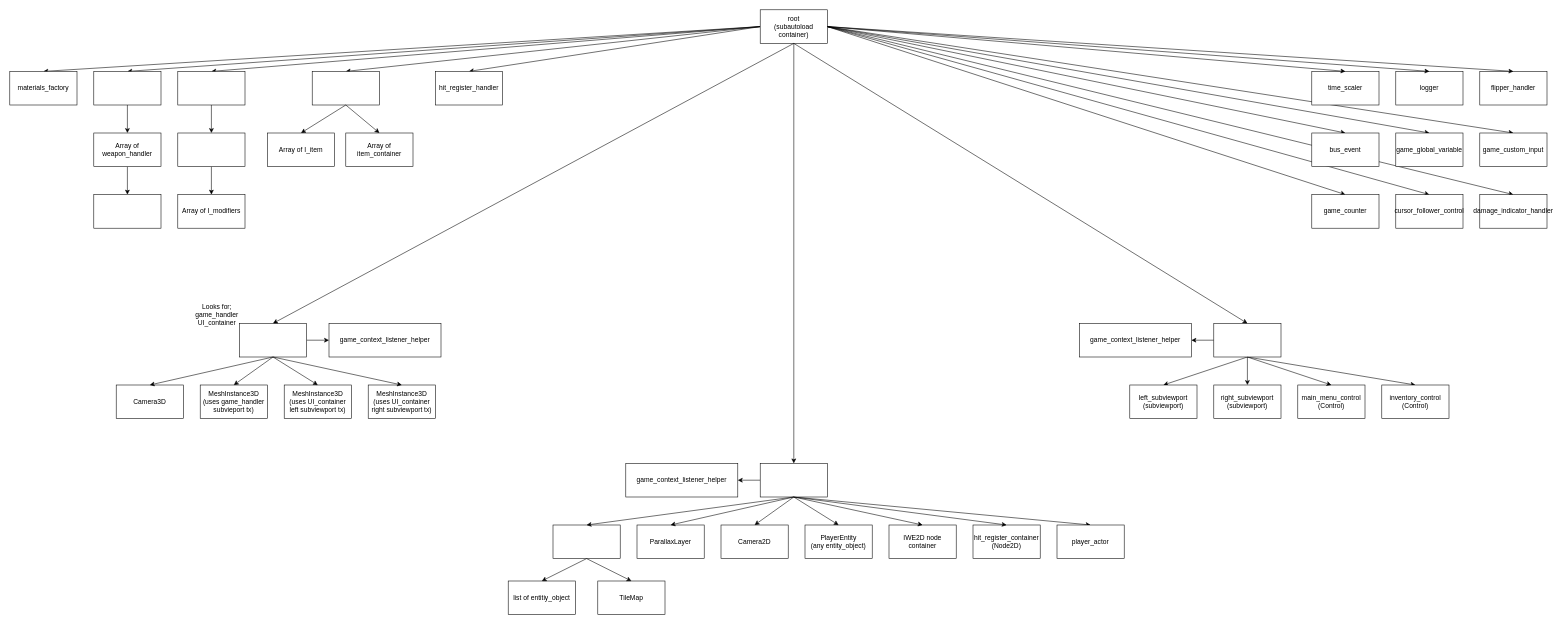
Image size: 1563x624. Some labels were removed from this diagram. The shapes that lost their labels are listed below. From the top down, each one's centre as x and y in pixels, then its label:
the point at 127,88: weapon_factory
the point at 211,88: modifier_factory
the point at 345,88: item_server
the point at 211,149: Array of modifier_container_item
the point at 127,211: I_damager
the point at 273,340: POV_node (Node3D)
the point at 1247,340: UI_container (Node)
the point at 793,480: game_handler (viewport)
the point at 586,541: level_handler
